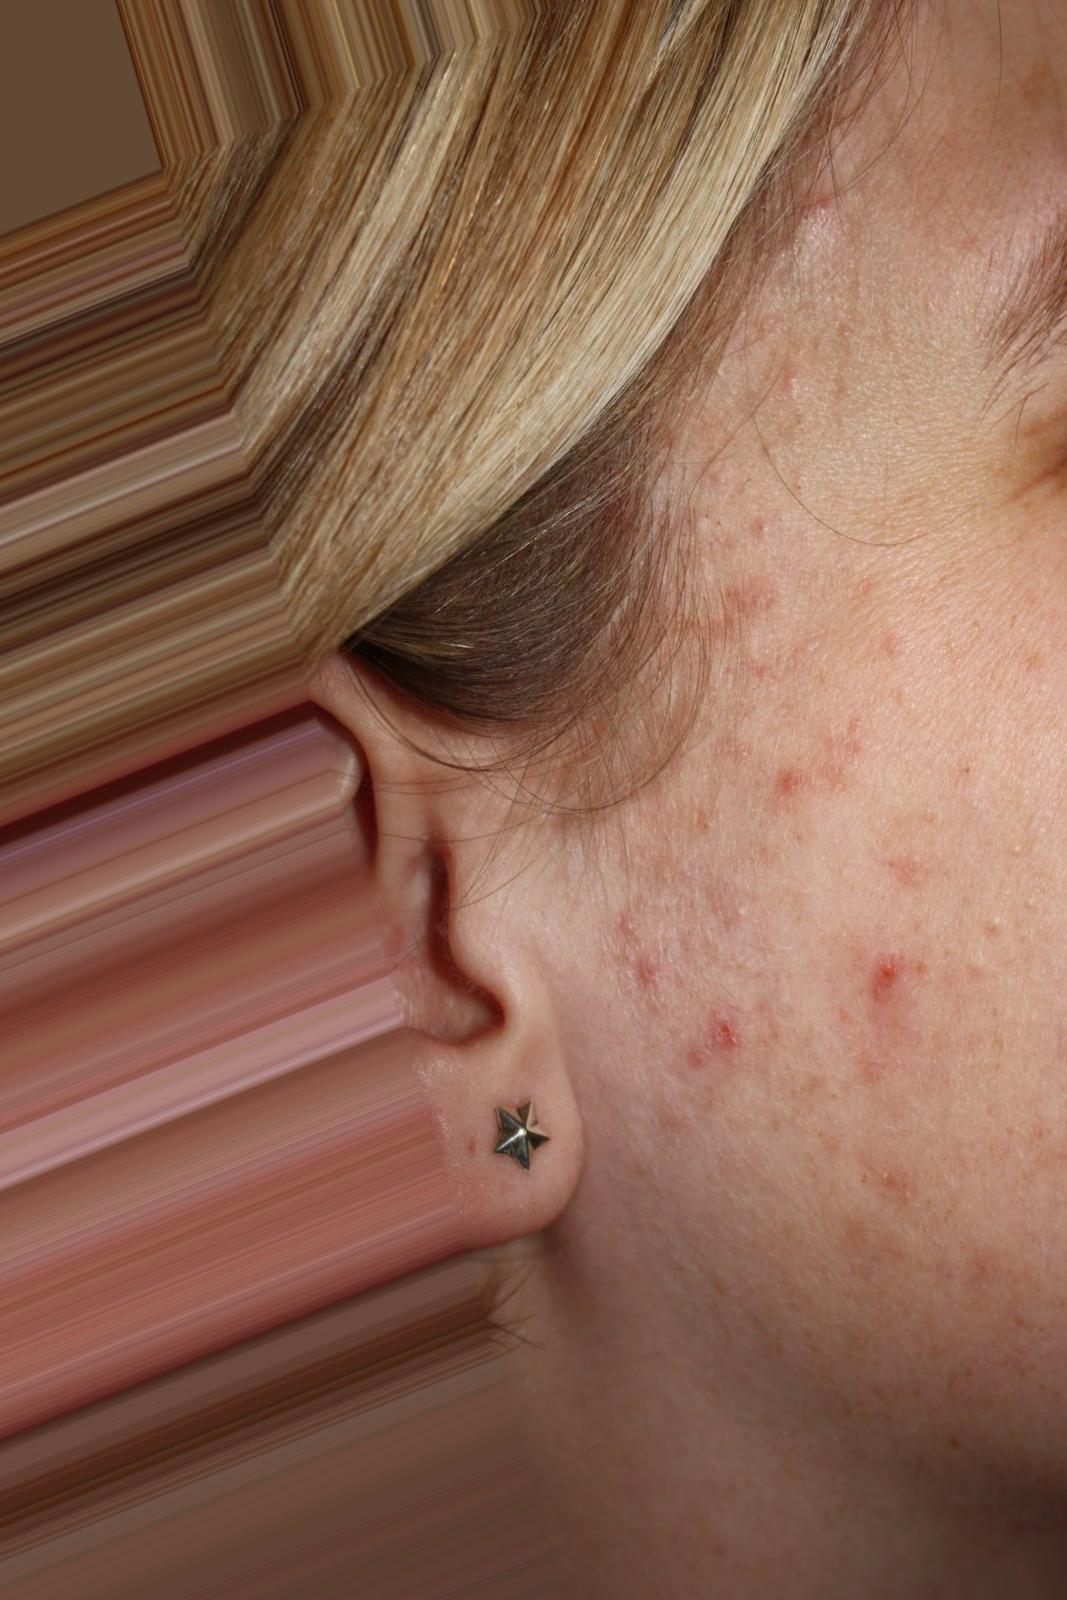Acne: (726, 707, 873, 869), (806, 932, 949, 1089), (637, 921, 762, 1082)
